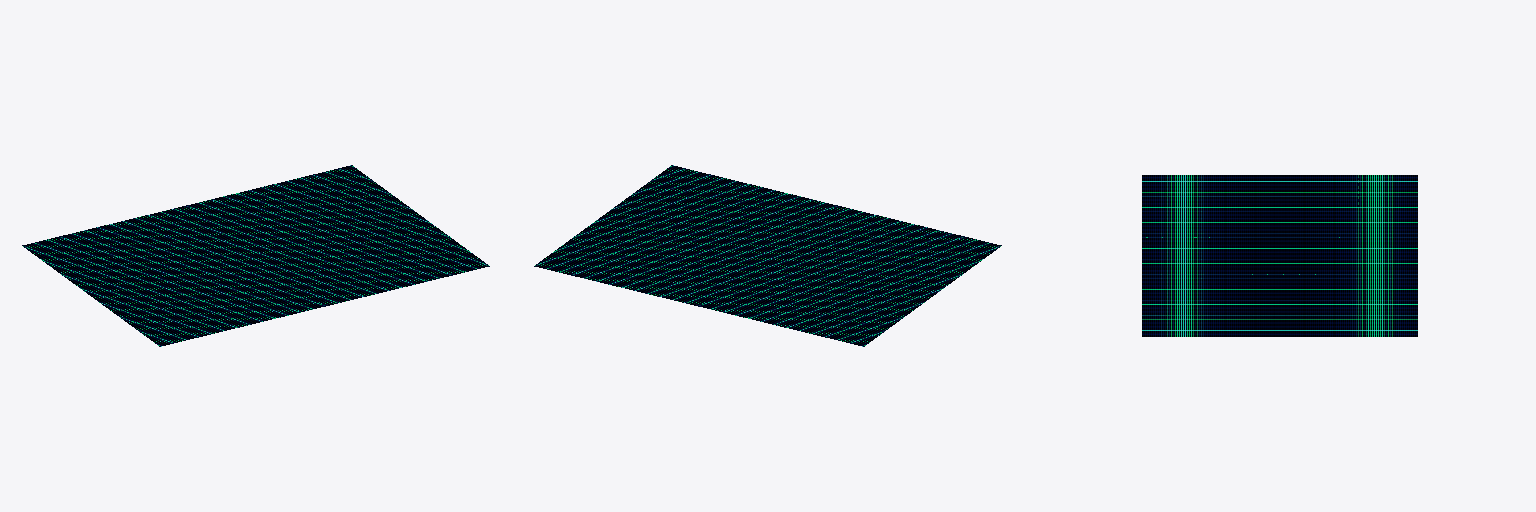
3 renders of one model, left to right at view 1: azimuth 30°, elevation 25°; view 2: azimuth 150°, elevation 25°; view 3: azimuth 270°, elevation 25°, orthographic.
Parts seen in each view (by area): view 1: Plane; view 2: Plane; view 3: Plane.
Boxes of the visible parts, x1=… form: Plane: x1=22, y1=165, x2=489, y2=346; Plane: x1=534, y1=165, x2=1001, y2=346; Plane: x1=1142, y1=175, x2=1417, y2=336.
Bounding box in the file's own units: 2758 × 0 × 2000.
1 materials, 1 textured.